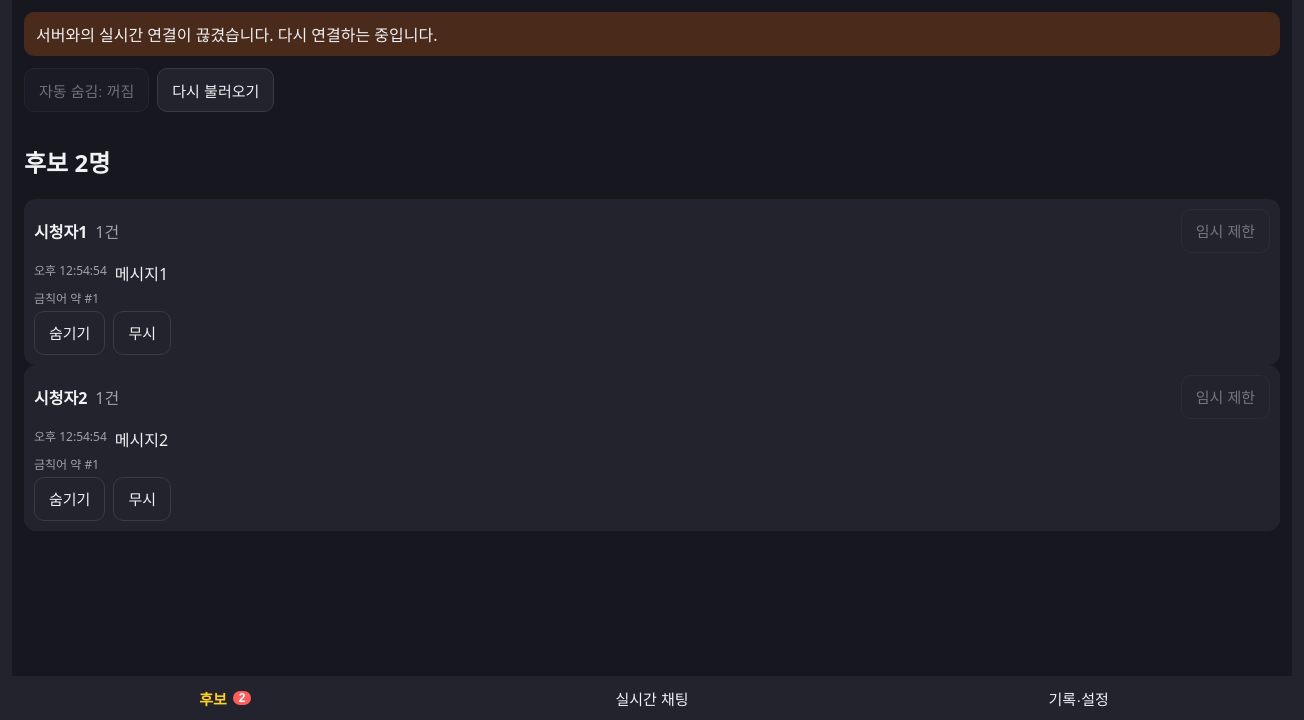
Test case: MainScreen 기본 성공 안내(F9) › 서버가 안내(note)를 주지 않으면 숨기기·무시에 기본 안내를 보여 준다
Click the button "숨기기" below "메시지1". click: (70, 333)
box: x1=34 y1=311 x2=105 y2=355
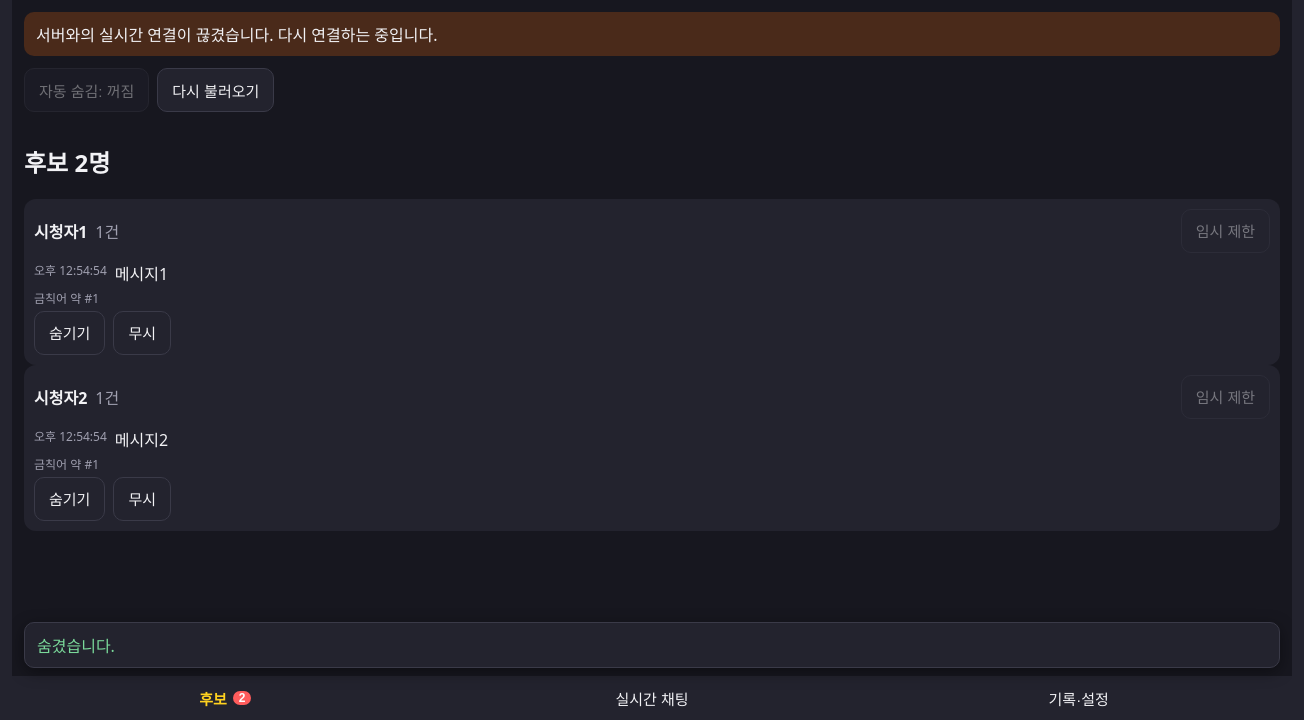
Now the message "숨겼습니다." is shown, box x1=24 y1=622 x2=1280 y2=668
Click the button "무시" below "메시지2". click: (142, 499)
box: x1=113 y1=477 x2=171 y2=521
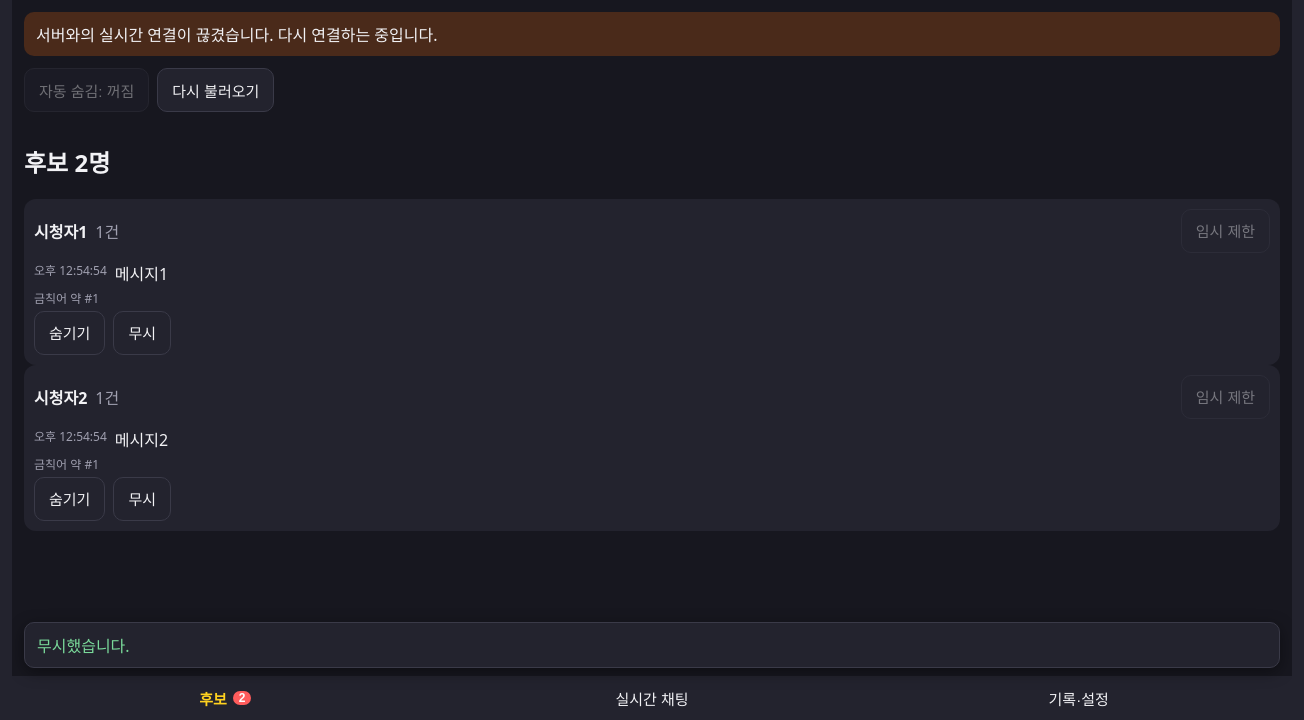
Now the message "무시했습니다." is shown, box x1=24 y1=622 x2=1280 y2=668
